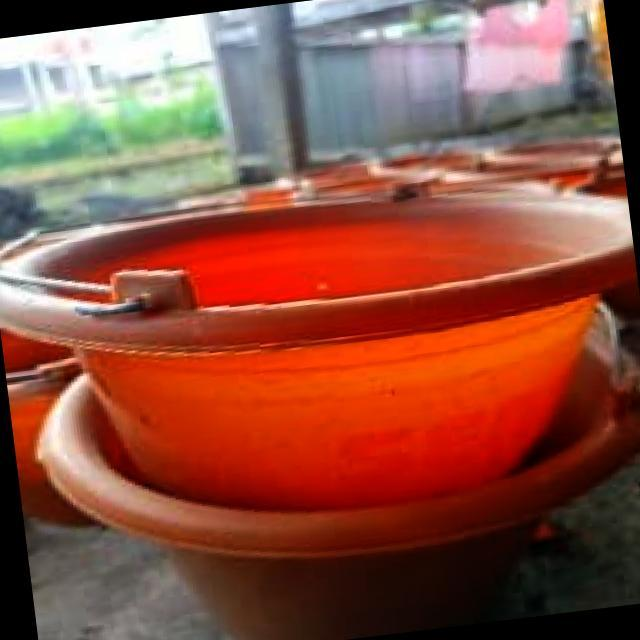HDPE Plastic: (0, 186, 640, 476), (30, 374, 638, 620)
